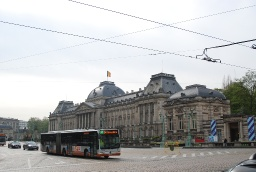bus: (40, 129, 125, 159)
car: (22, 141, 40, 152), (7, 140, 22, 150)
